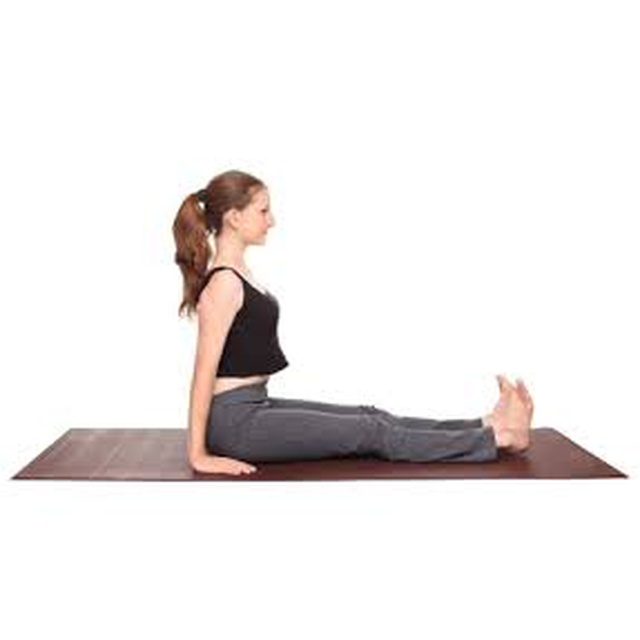Staff_Pose: (171, 170, 536, 477)
